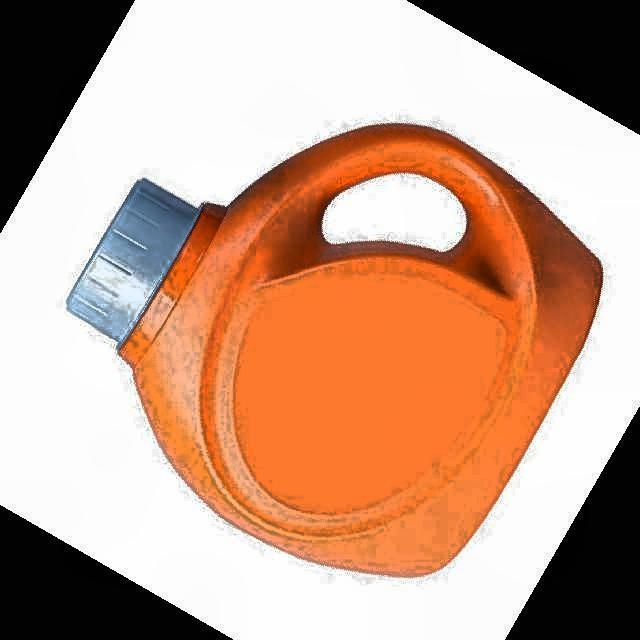plastic: (68, 125, 602, 576)
